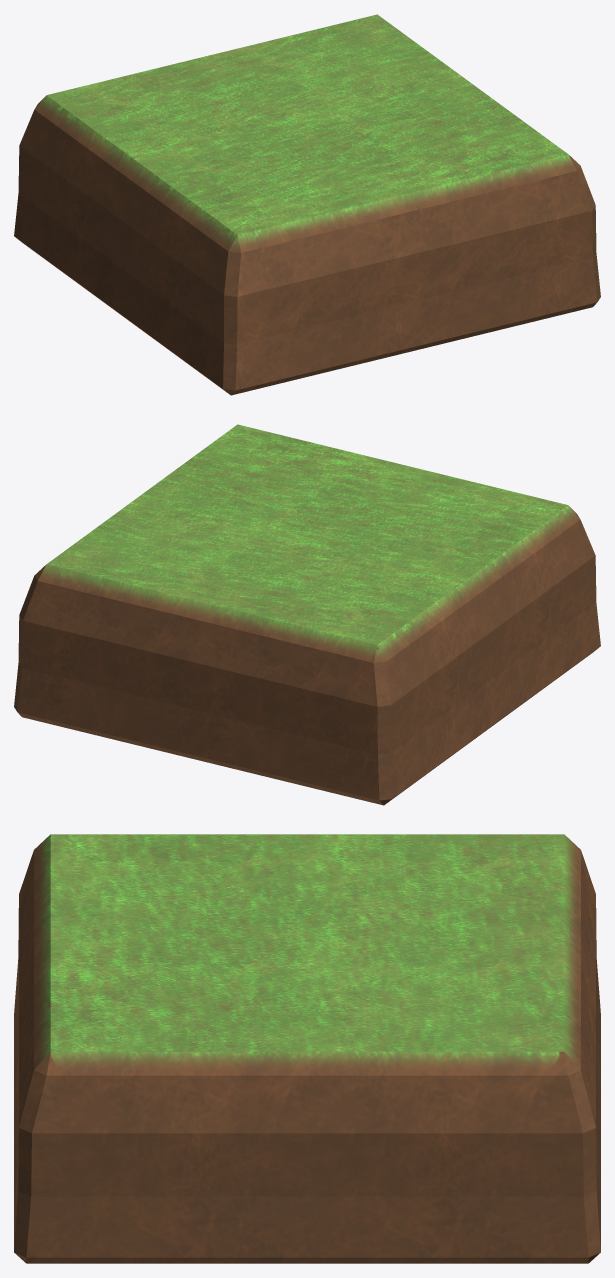
File: earth.fbx
3 renders of one model, top to bottom at view 1: azimuth 30°, elevation 25°; view 2: azimuth 150°, elevation 25°; view 3: azimuth 270°, elevation 25°, orthographic. The views are drawn at different scales.
Visible parts, largest first — view 1: pCube1; view 2: pCube1; view 3: pCube1.
Part boxes in pixels (x1,y1,x2,y2): pCube1: (14,14,600,395); pCube1: (14,424,600,805); pCube1: (14,834,600,1263).
Bounding box in the file's own units: 28.09 × 10.66 × 28.09.
